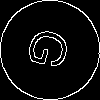G: (25, 25, 80, 75)
